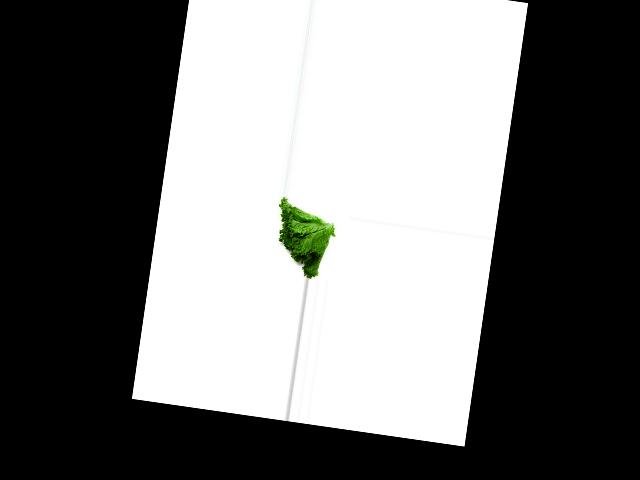lettuce: (267, 196, 337, 281)
